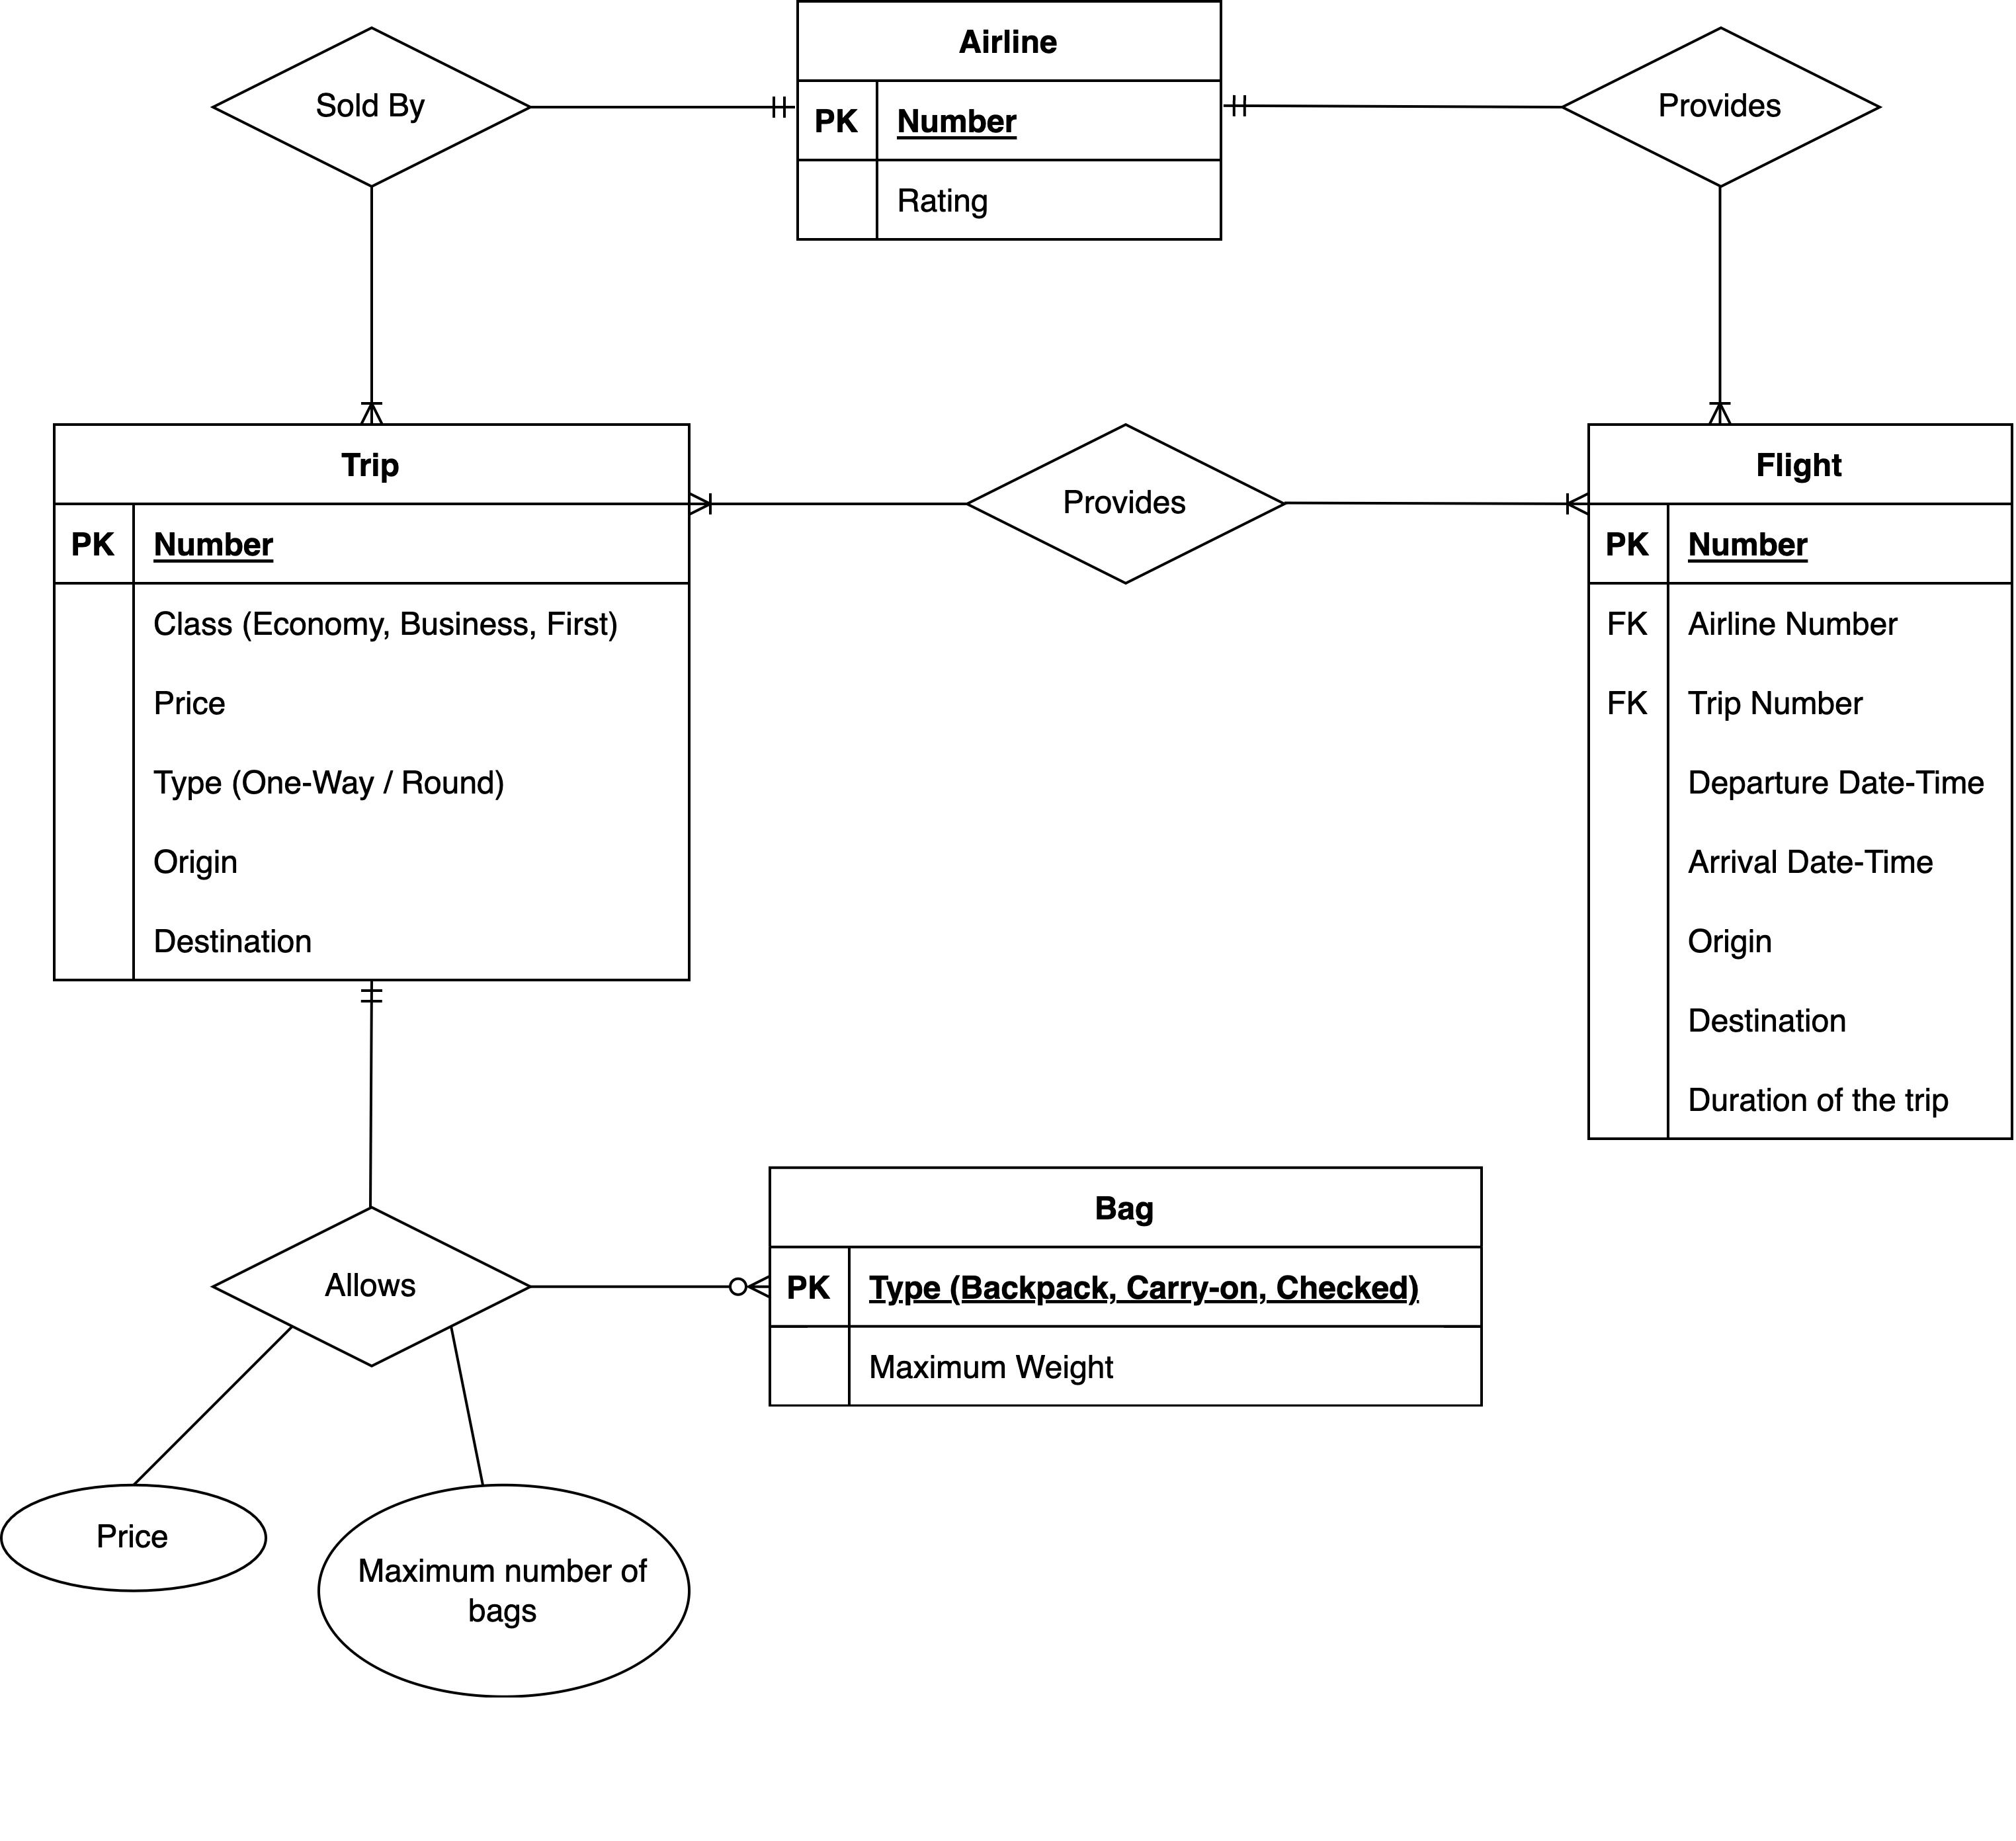attribute: (323, 1483, 687, 1697), (0, 1490, 265, 1595)
entity: (40, 426, 695, 985), (1580, 418, 2016, 1143), (762, 1160, 1487, 1413), (790, 0, 1229, 251)
relationship: (1563, 21, 1886, 191), (205, 1207, 537, 1369), (207, 30, 530, 188), (971, 425, 1284, 584)
